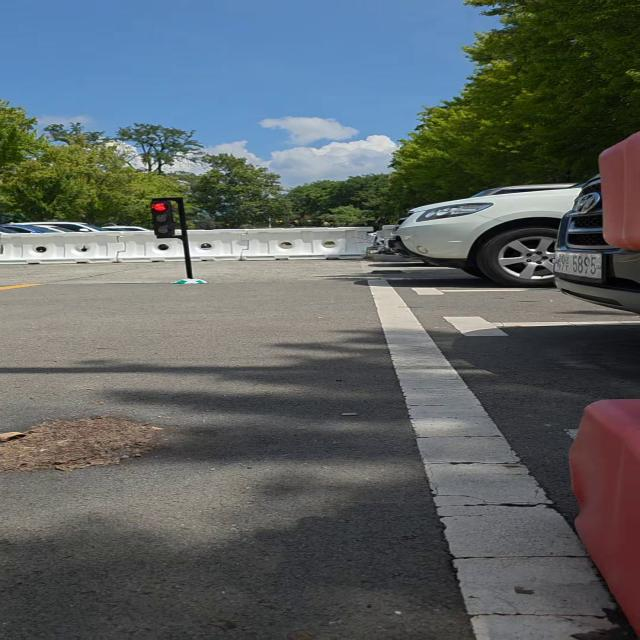red: (146, 199, 181, 239)
